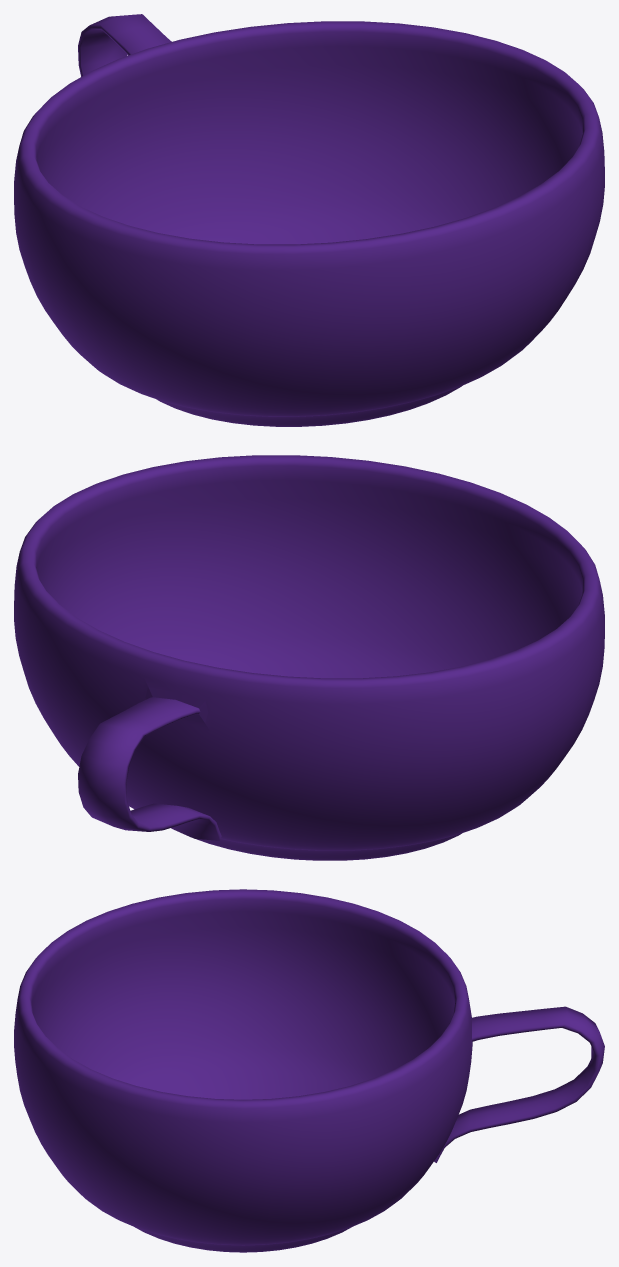
File: tasse.fbx
3 renders of one model, top to bottom at view 1: azimuth 30°, elevation 25°; view 2: azimuth 150°, elevation 25°; view 3: azimuth 270°, elevation 25°, orthographic. The views are drawn at different scales.
Visible parts, largest first — view 1: Cup_Geo; view 2: Cup_Geo; view 3: Cup_Geo.
Part boxes in pixels (box(x1,y1,x2,y2)): Cup_Geo: box(14, 14, 604, 426); Cup_Geo: box(14, 455, 604, 860); Cup_Geo: box(14, 889, 604, 1252).
Bounding box in the file's own units: 0.9465 × 0.384 × 1.07.
